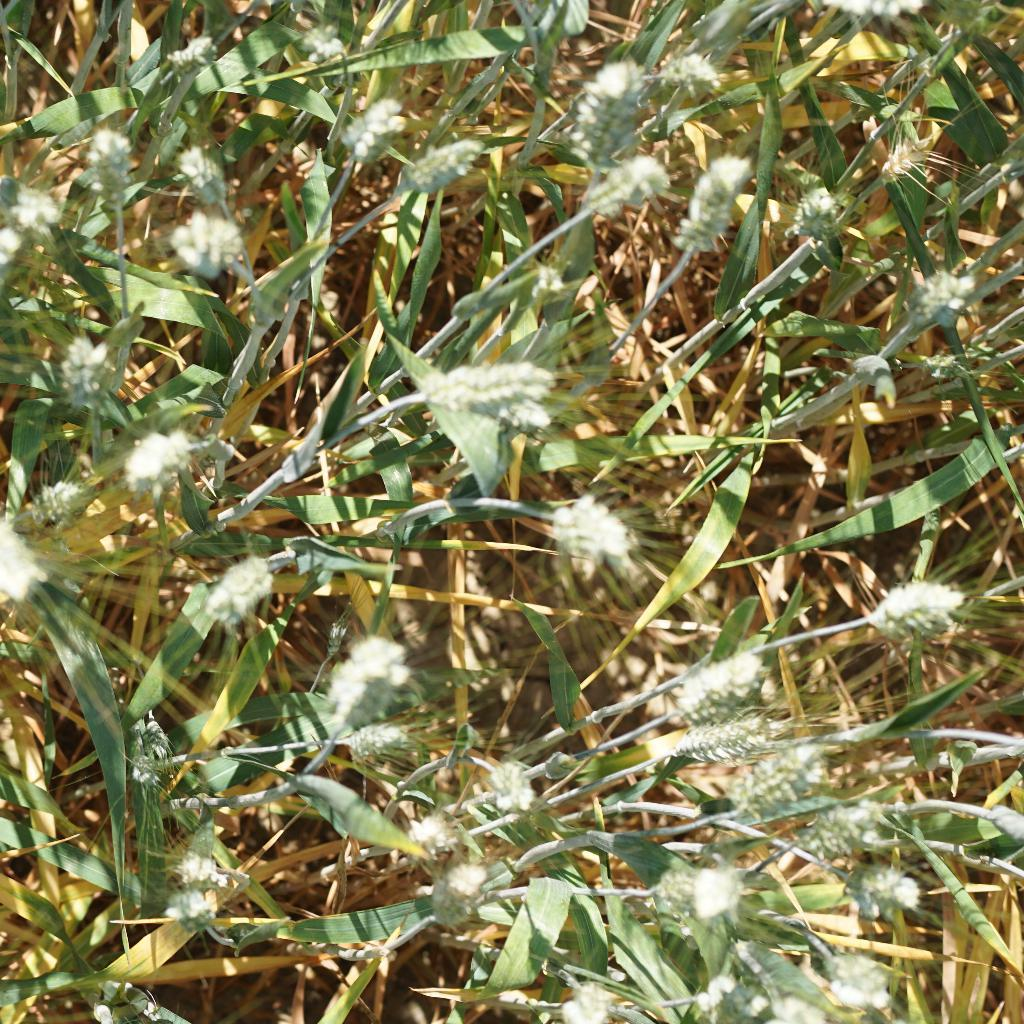0-0: (307, 624, 423, 720), (570, 49, 654, 175), (639, 854, 761, 926), (680, 144, 755, 261), (167, 205, 268, 291), (428, 350, 549, 419), (722, 748, 843, 815), (388, 129, 499, 197), (856, 115, 946, 198), (544, 481, 636, 561), (672, 647, 777, 716), (791, 804, 904, 866), (115, 703, 190, 795), (194, 539, 288, 610), (114, 418, 202, 493), (867, 580, 968, 645), (800, 938, 892, 1009), (423, 852, 497, 940), (78, 118, 137, 228), (894, 253, 976, 332), (664, 716, 777, 773), (343, 86, 419, 169), (575, 150, 671, 215), (159, 843, 228, 931), (165, 153, 243, 215), (49, 325, 116, 397), (847, 866, 929, 920), (783, 186, 848, 253), (0, 497, 45, 593), (289, 21, 365, 77), (481, 747, 544, 814), (337, 716, 426, 762), (658, 48, 733, 100), (22, 467, 98, 518), (0, 175, 64, 235), (556, 972, 624, 1024), (159, 29, 228, 79), (759, 983, 836, 1024), (404, 802, 463, 854), (917, 348, 977, 397), (800, 0, 927, 22), (524, 258, 574, 311), (939, 0, 992, 49)
